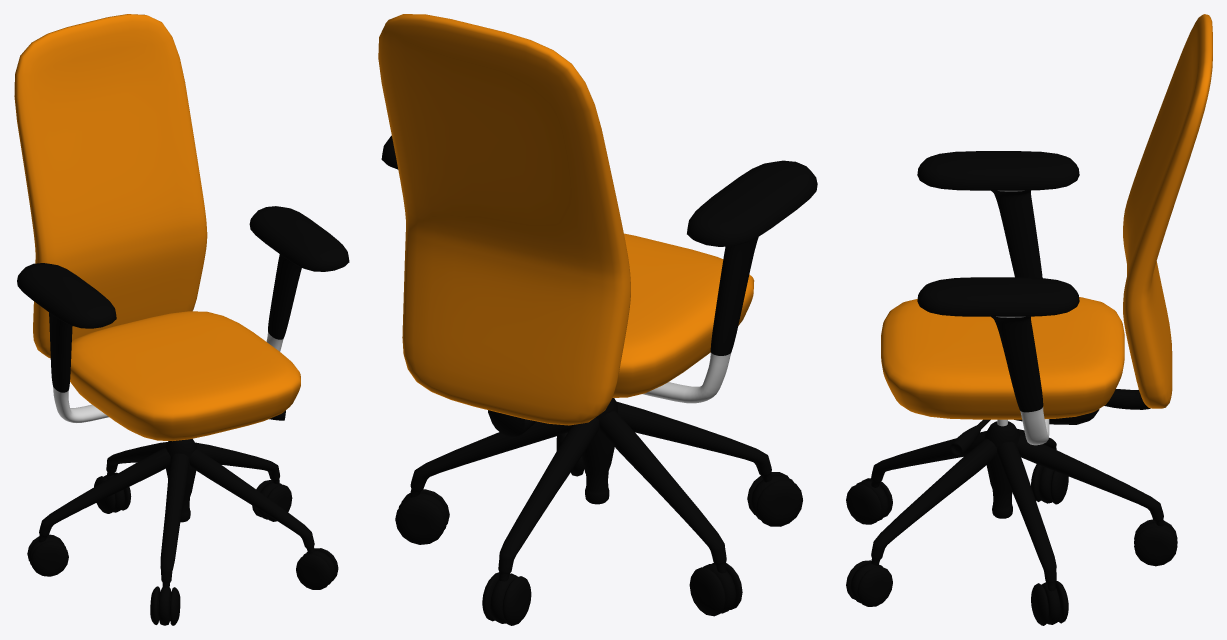
Rendered from Chair.fbx.
3 views of the same model, side by side, from view 1: azimuth 30°, elevation 25°; view 2: azimuth 150°, elevation 25°; view 3: azimuth 270°, elevation 25° (orthographic). The views are drawn at different scales.
Visible parts, largest first — view 1: Chair; view 2: Chair; view 3: Chair.
Part boxes in pixels (bbox=[...]): Chair: bbox=[14, 14, 349, 625]; Chair: bbox=[378, 14, 817, 625]; Chair: bbox=[846, 14, 1212, 625].
Bounding box in the file's own units: 7.86 × 12.43 × 7.89.
